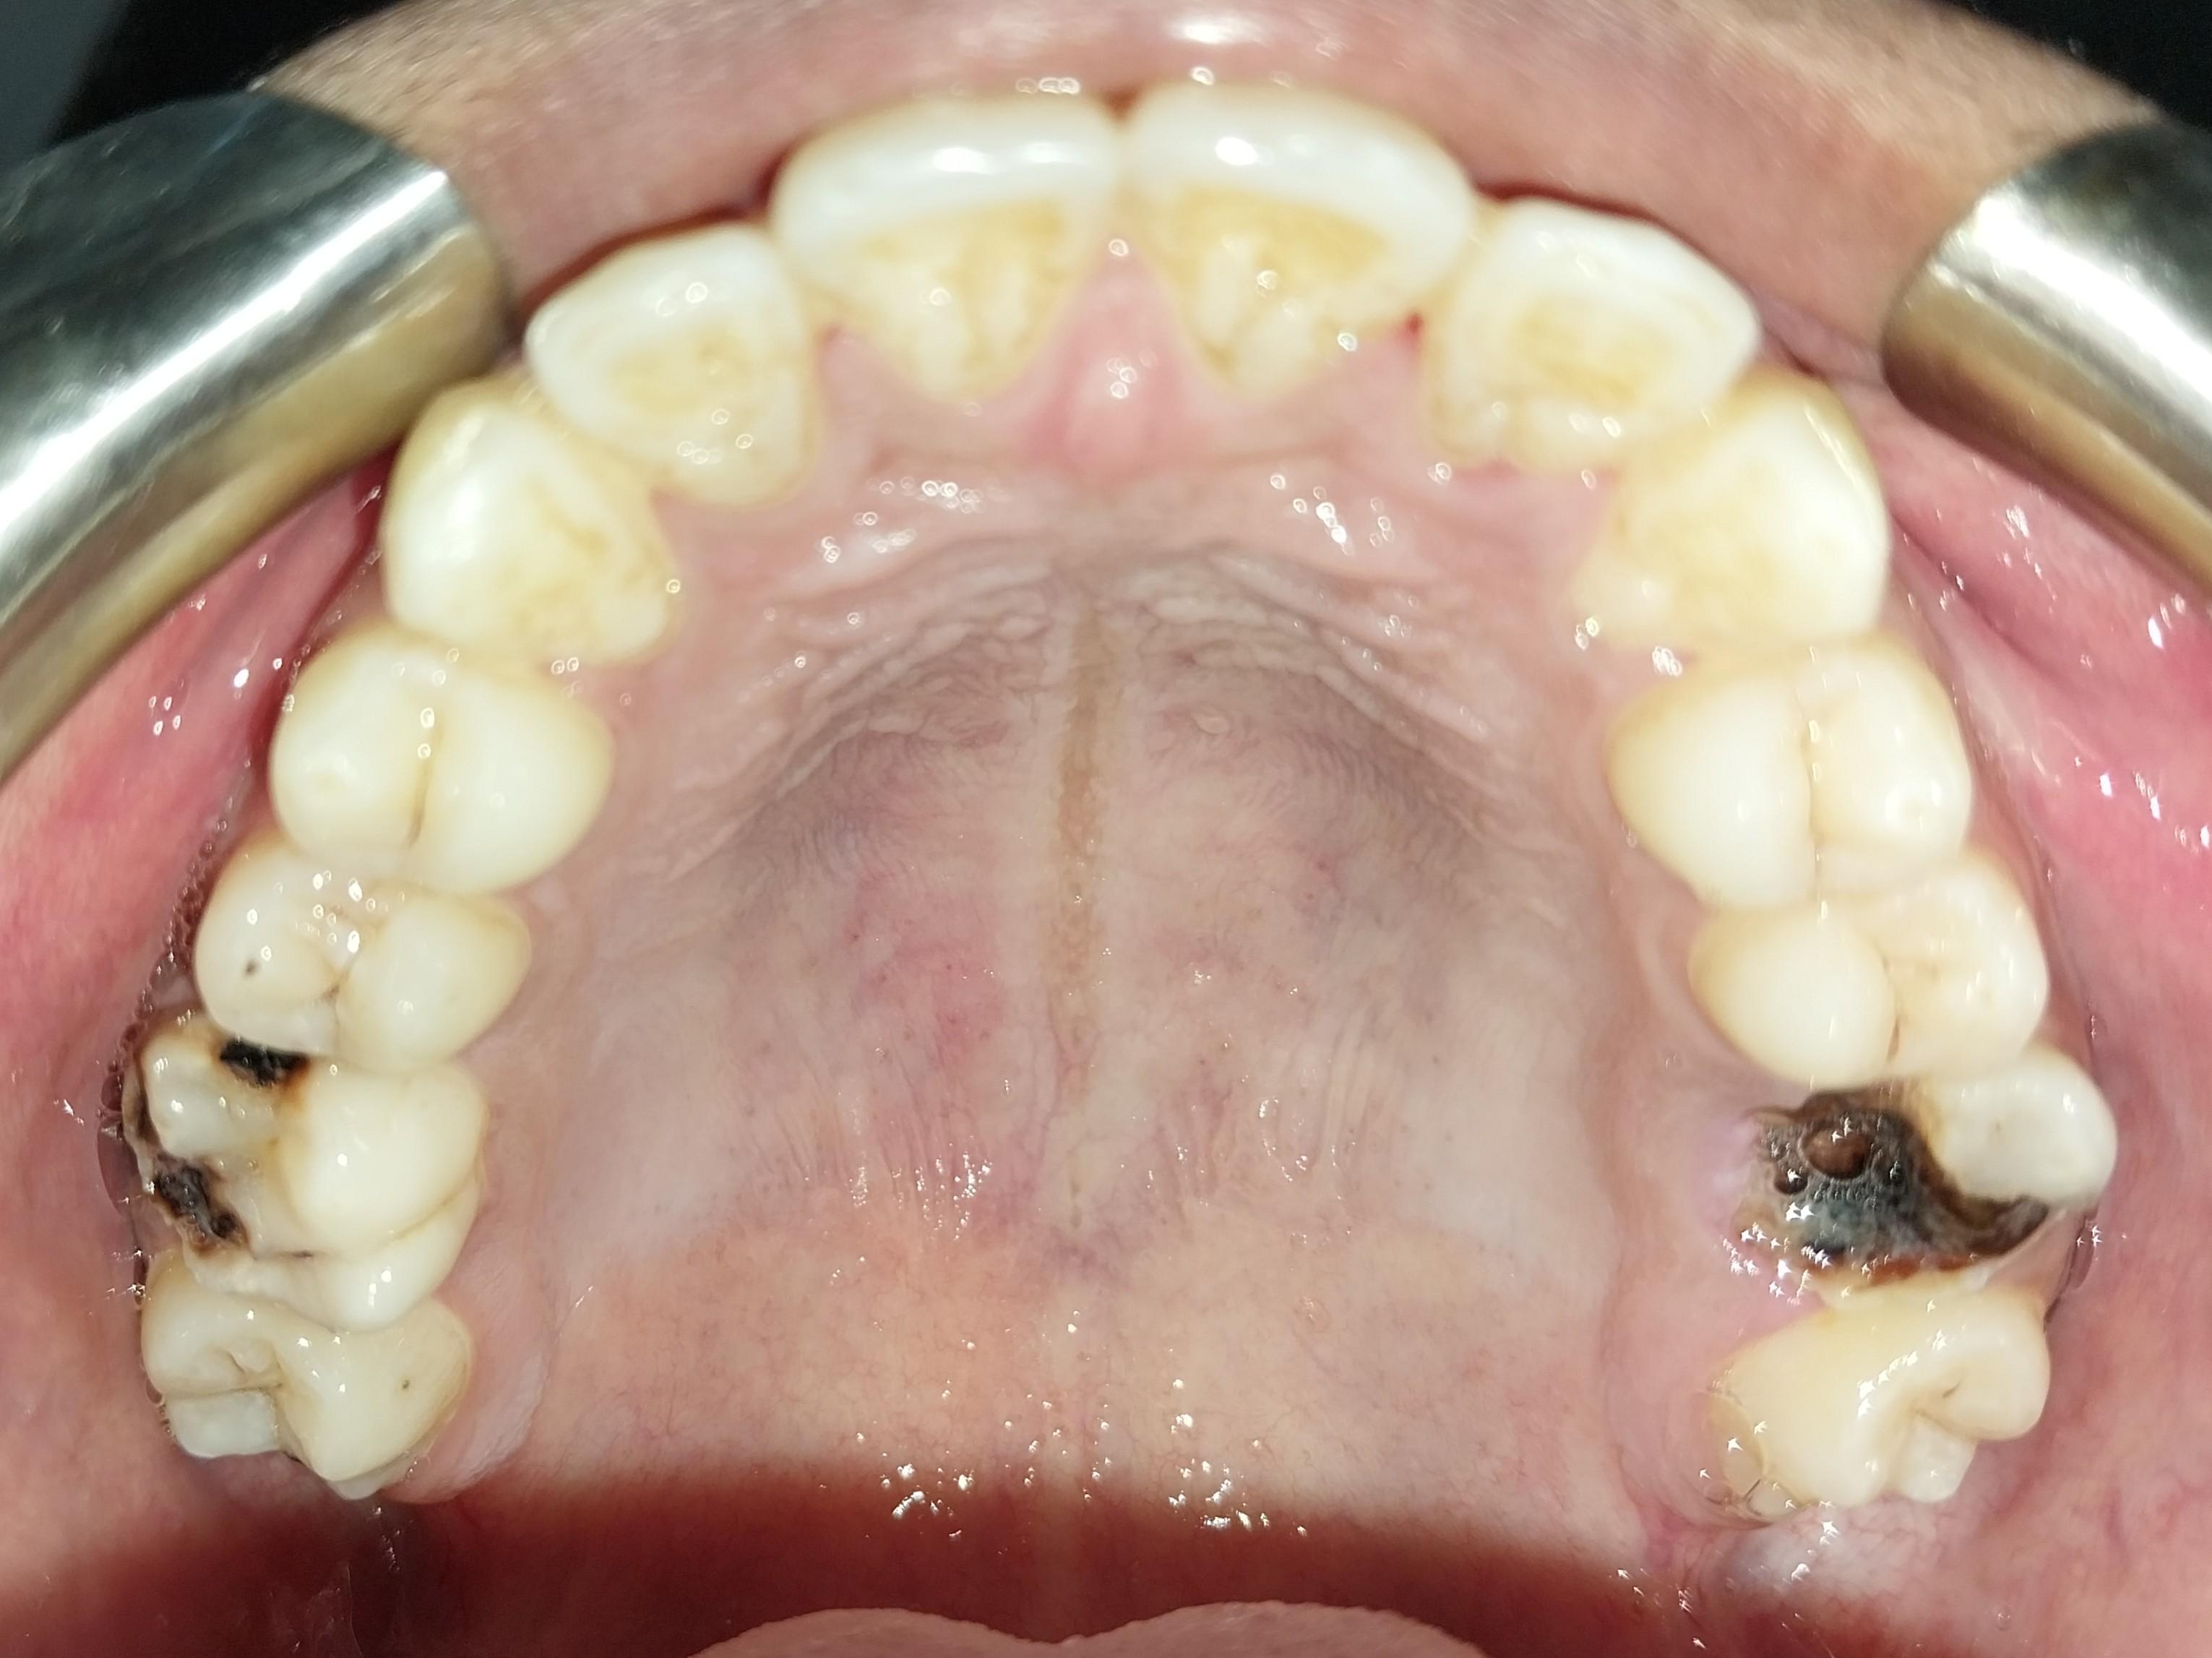D: (126, 1005, 484, 1318), (1762, 1092, 2129, 1363)
